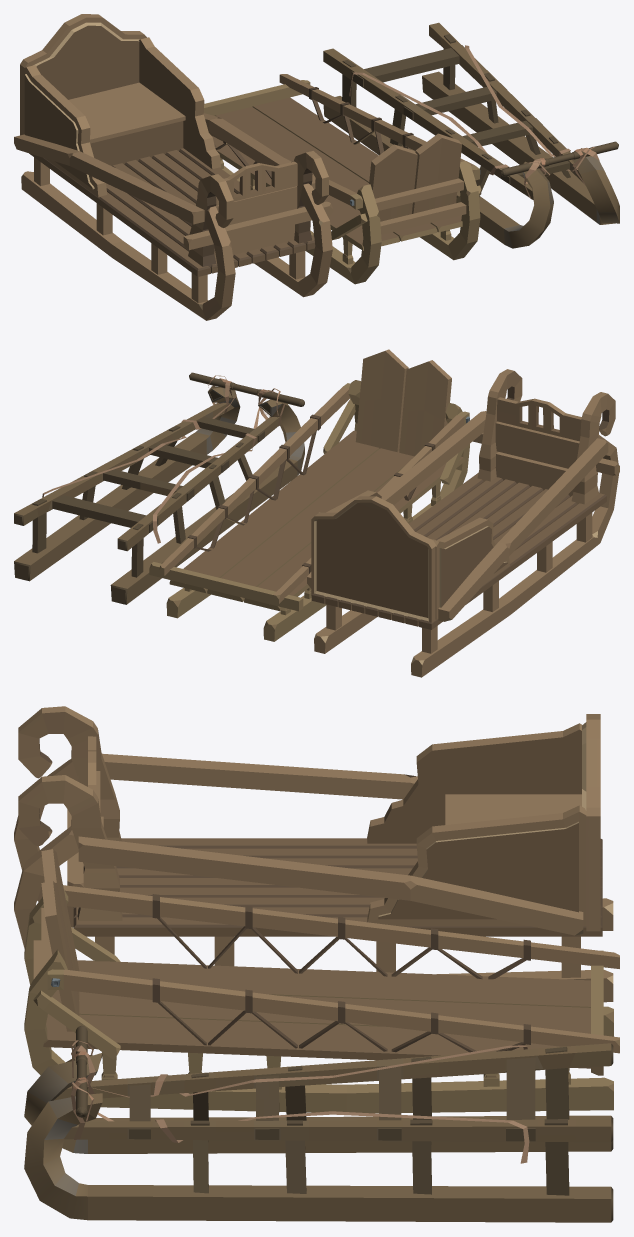
The model's file is sani 1.fbx.
3 views of the same model, one above another, from view 1: azimuth 30°, elevation 25°; view 2: azimuth 150°, elevation 25°; view 3: azimuth 270°, elevation 25° (orthographic). The views are drawn at different scales.
Visible parts, largest first — view 1: sani_3, sani_2, sani_1; view 2: sani_3, sani_2, sani_1; view 3: sani_3, sani_2, sani_1.
Part boxes in pixels (left/top/right/bottom): sani_3: left=14, top=14, right=333, bottom=320; sani_2: left=204, top=74, right=481, bottom=284; sani_1: left=323, top=22, right=619, bottom=248; sani_3: left=307, top=369, right=619, bottom=677; sani_2: left=149, top=349, right=469, bottom=641; sani_1: left=14, top=372, right=304, bottom=604; sani_3: left=14, top=706, right=613, bottom=1002; sani_2: left=24, top=849, right=619, bottom=1113; sani_1: left=24, top=1025, right=613, bottom=1222.
Size of the model in its own units: 11.35 by 9.15 by 4.12.
